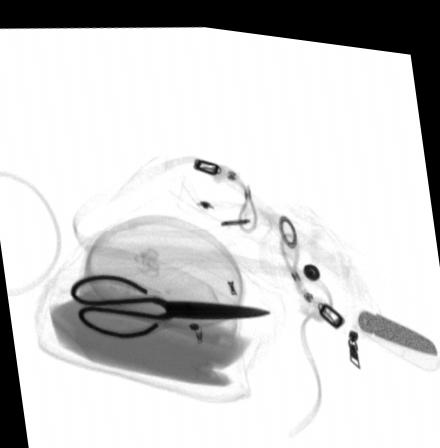Knife: (356, 300, 439, 344)
Scissors: (71, 273, 272, 336)
